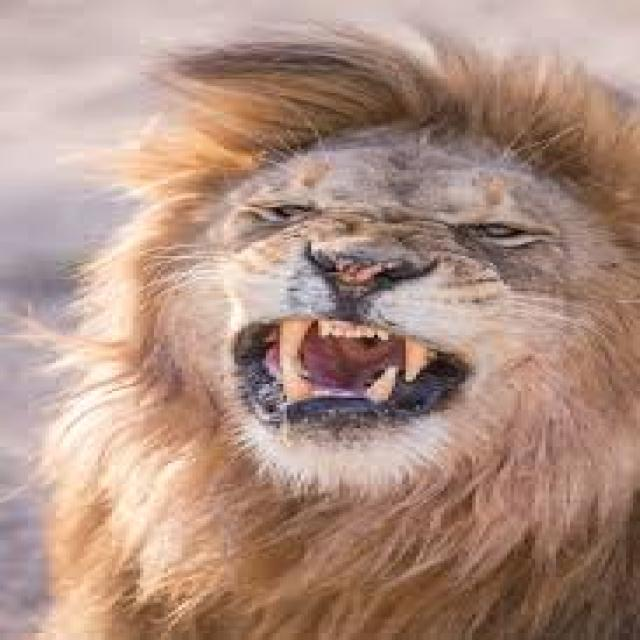Lion: (38, 30, 637, 638)
